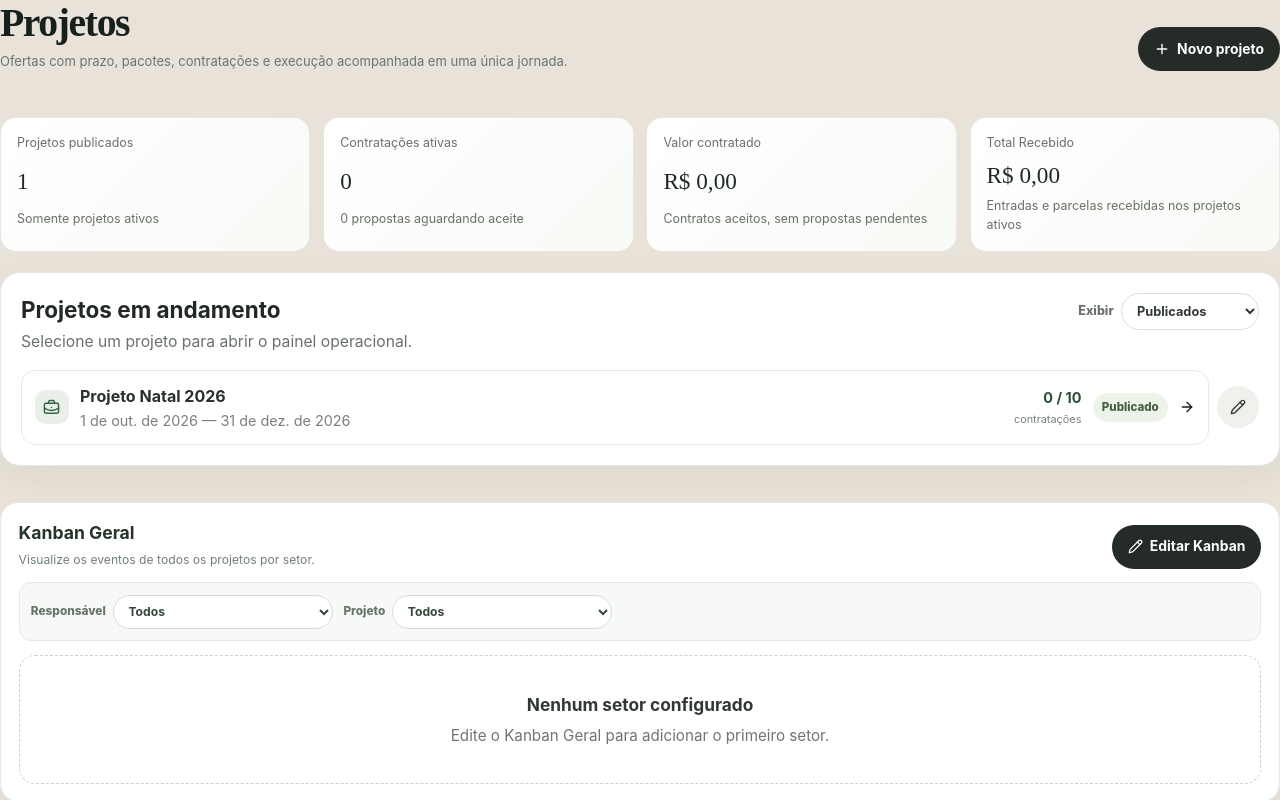
Test: projects navigation › opens a new project without initial package fields
The width and height of the screenshot is (1280, 800).
Click the button "Novo projeto": [1209, 49] box [1138, 27, 1279, 71]
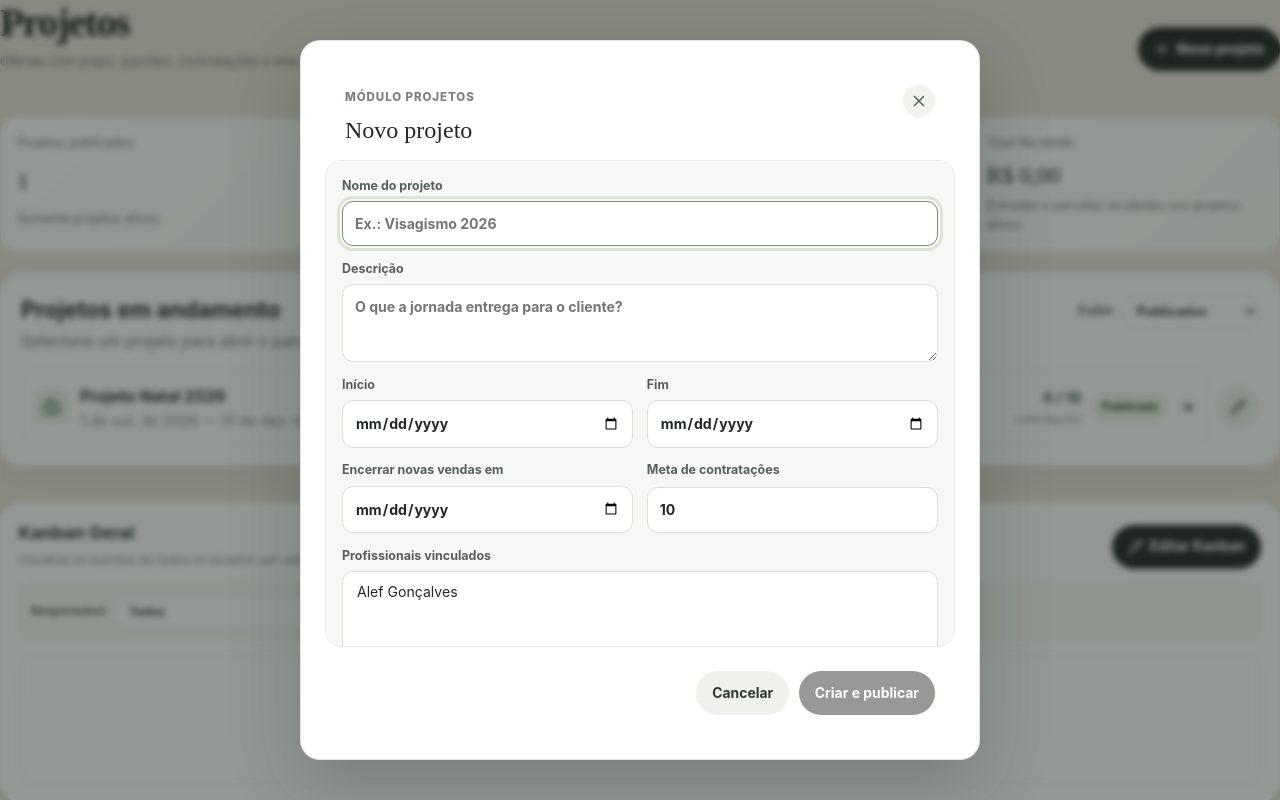
Now the dialog "Novo projeto" is shown, box [300, 40, 980, 760]
Now the button "Criar e publicar" is shown, box [799, 671, 935, 715]
